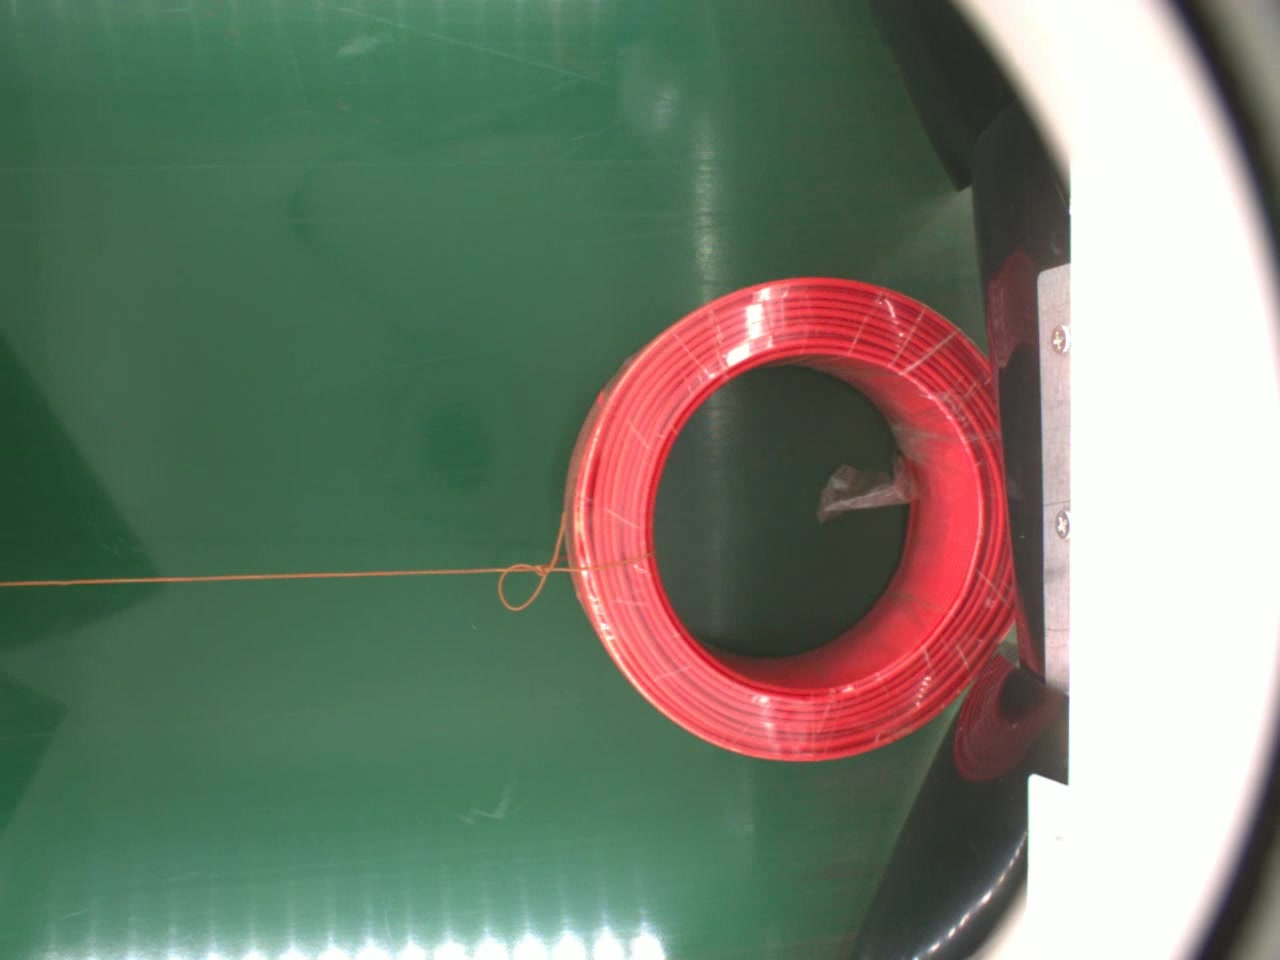red: (561, 270, 1017, 761)
